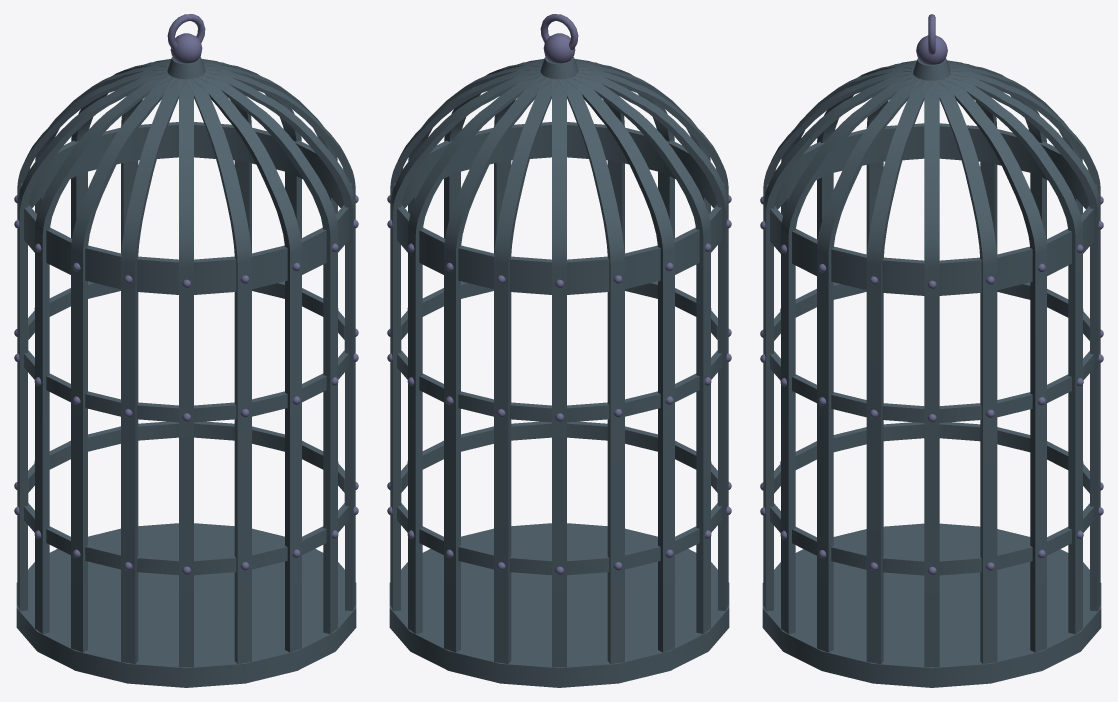
The model's file is realdeathcage.FBX.
The picture shows the model from 3 angles, left to right: view 1: azimuth 30°, elevation 25°; view 2: azimuth 150°, elevation 25°; view 3: azimuth 270°, elevation 25°; orthographic projection.
Visible parts, largest first — view 1: Cylinder001, Group002, Shape002, Shape018, Shape003, Shape017, Shape001, Shape016, Shape004, Shape005, Shape015, Shape006 (+13 smaller); view 2: Cylinder001, Group002, Shape008, Shape006, Shape005, Shape009, Shape007, Shape004, Shape010, Shape003, Shape011, Shape002 (+13 smaller); view 3: Cylinder001, Group002, Shape012, Shape014, Shape015, Shape011, Shape013, Shape016, Shape010, Shape009, Shape017, Shape008 (+12 smaller).
Boxes of the visible parts, <box> form: Cylinder001: <box>16,523,356,687</box>; Group002: <box>21,122,351,575</box>; Shape002: <box>121,77,187,663</box>; Shape018: <box>185,77,251,663</box>; Shape003: <box>71,75,180,652</box>; Shape017: <box>192,75,301,652</box>; Shape001: <box>179,78,193,667</box>; Shape016: <box>198,72,337,633</box>; Shape004: <box>35,72,174,633</box>; Shape005: <box>17,69,170,610</box>; Shape015: <box>202,69,355,610</box>; Shape006: <box>17,67,168,203</box>; Cylinder001: <box>389,523,729,687</box>; Group002: <box>394,122,724,575</box>; Shape008: <box>494,77,560,663</box>; Shape006: <box>558,77,624,663</box>; Shape005: <box>565,75,674,652</box>; Shape009: <box>444,75,553,652</box>; Shape007: <box>552,78,566,667</box>; Shape004: <box>571,72,710,633</box>; Shape010: <box>408,72,547,633</box>; Shape003: <box>575,69,728,610</box>; Shape011: <box>390,69,543,610</box>; Shape002: <box>577,67,728,203</box>; Cylinder001: <box>762,523,1101,687</box>; Group002: <box>767,123,1096,575</box>; Shape012: <box>931,78,997,663</box>; Shape014: <box>866,78,932,663</box>; Shape015: <box>817,76,926,652</box>; Shape011: <box>937,76,1046,652</box>; Shape013: <box>924,80,939,667</box>; Shape016: <box>781,74,920,634</box>; Shape010: <box>943,74,1082,634</box>; Shape009: <box>948,71,1100,611</box>; Shape017: <box>763,71,915,611</box>; Shape008: <box>950,68,1100,204</box>.
Bounding box in the file's own units: 68.32 × 130 × 67.32.
